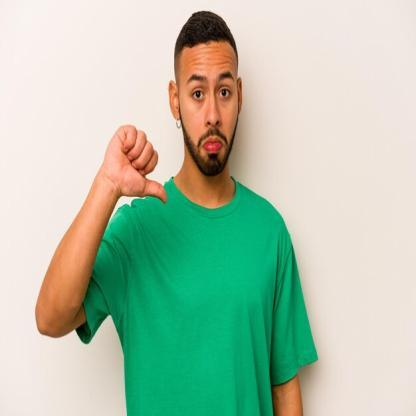thumb_down: (100, 119, 169, 208)
